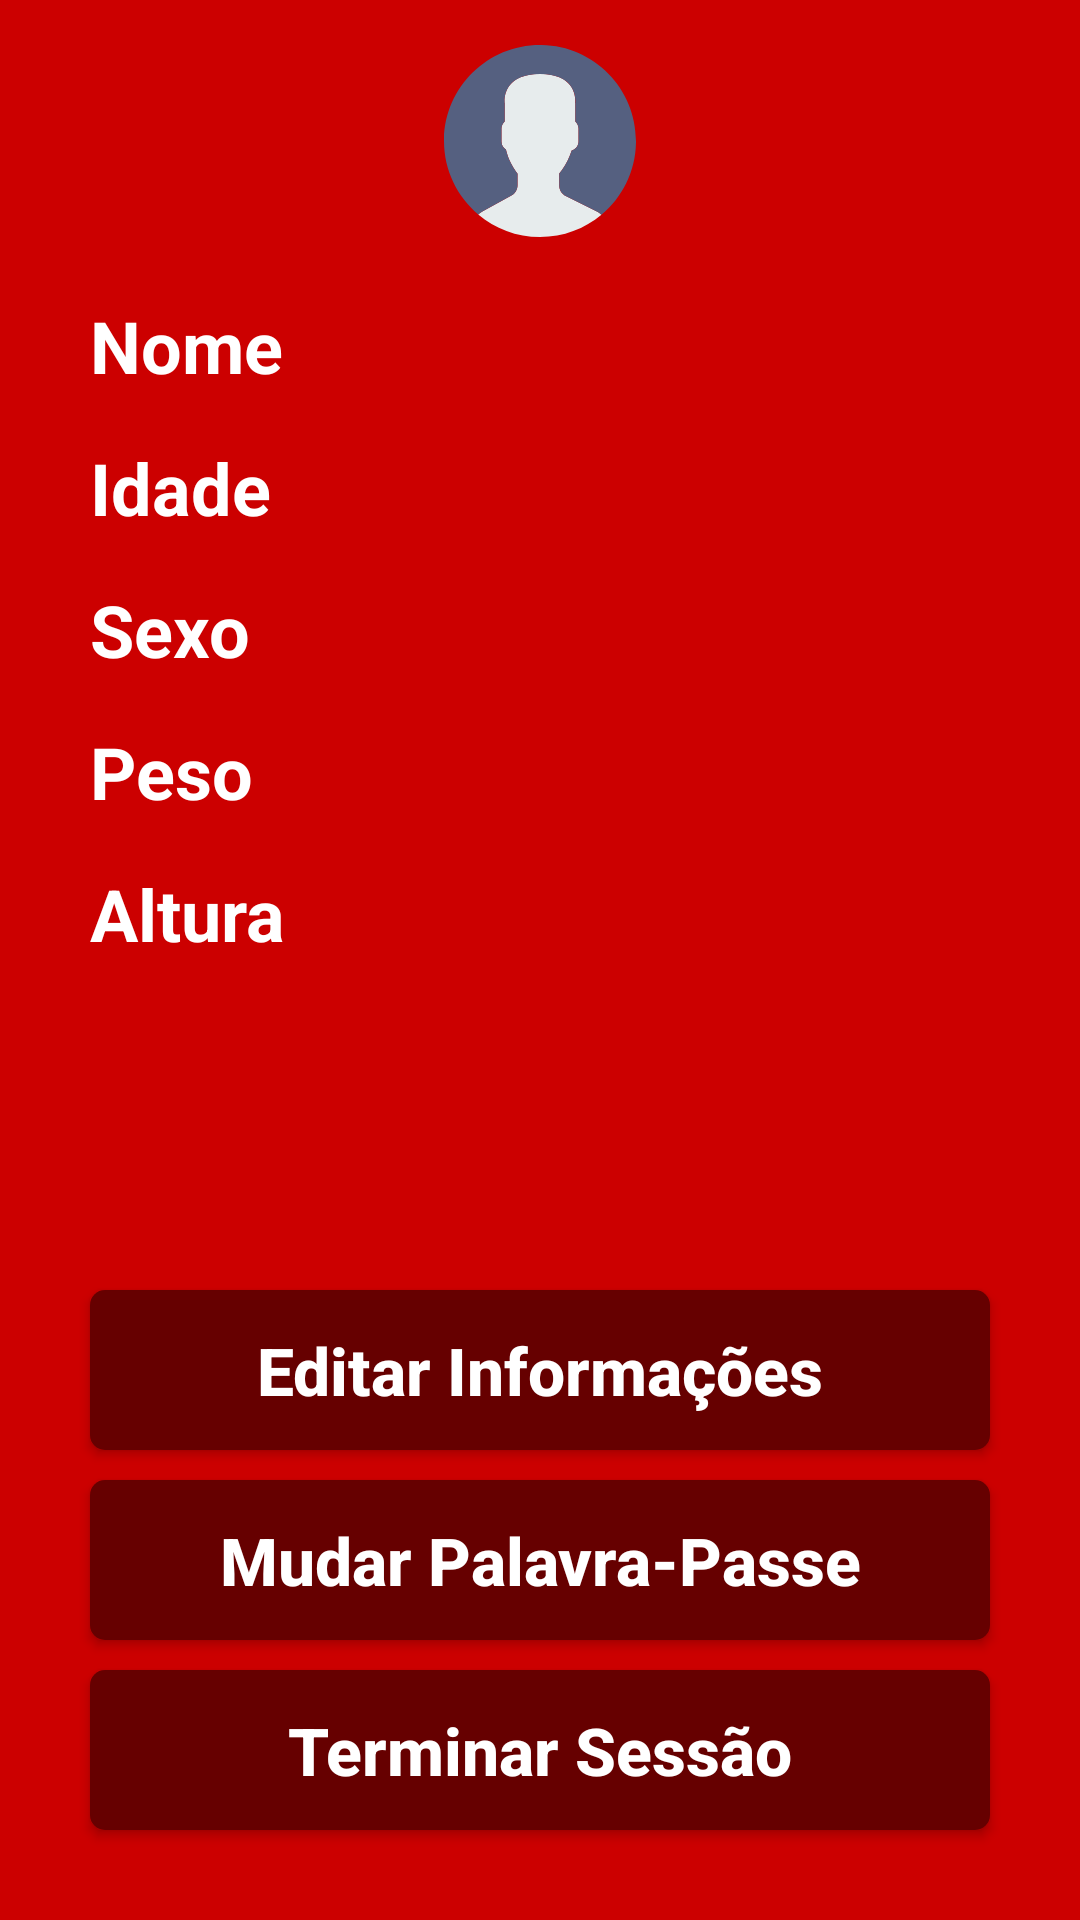

Locate icon controls on the screen. Image size 1080px x 1920px, boxes as (x1, y1, x2, y2).
user: (444, 45, 636, 237)
